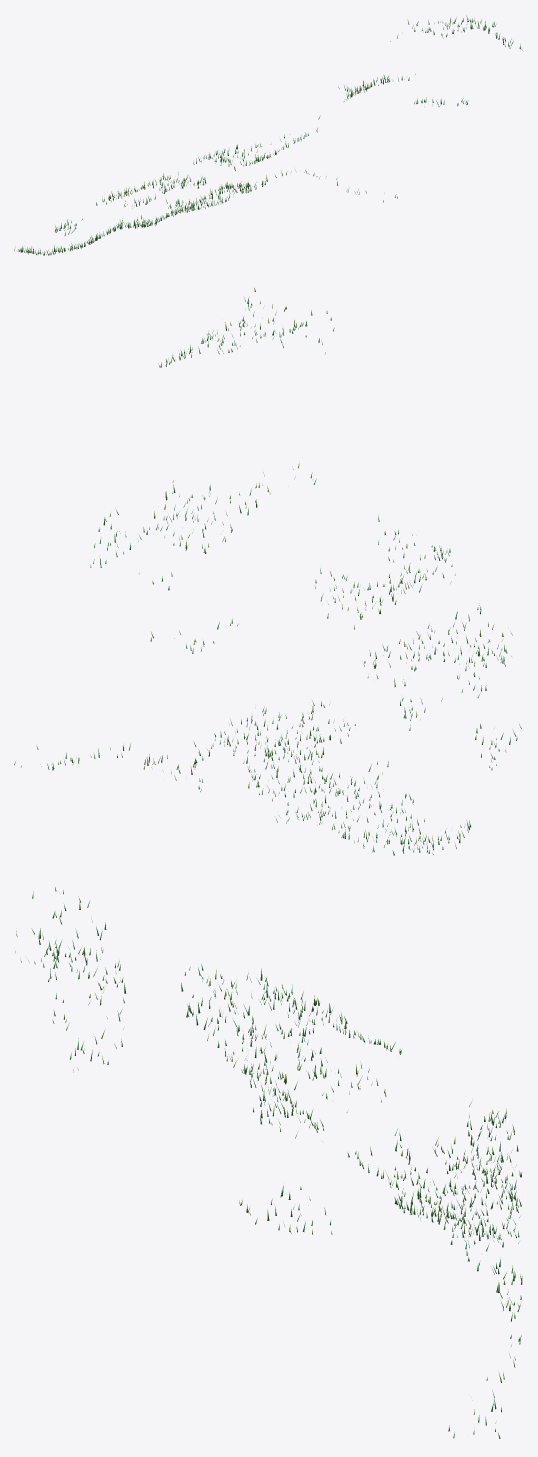
3 renders of one model, top to bottom at view 1: azimuth 30°, elevation 25°; view 2: azimuth 150°, elevation 25°; view 3: azimuth 270°, elevation 25°, orthographic. The views are drawn at different scales.
Parts seen in each view (by area): view 1: gc_63; view 2: gc_63; view 3: gc_63.
Part boxes in pixels (x1,y1,x2,y2): gc_63: [14, 15, 522, 255]; gc_63: [14, 288, 521, 855]; gc_63: [15, 887, 522, 1438].
Size of the model in its own units: 18.06 by 14.07 by 13.52.
Materials: 1 (1 with a texture image).
